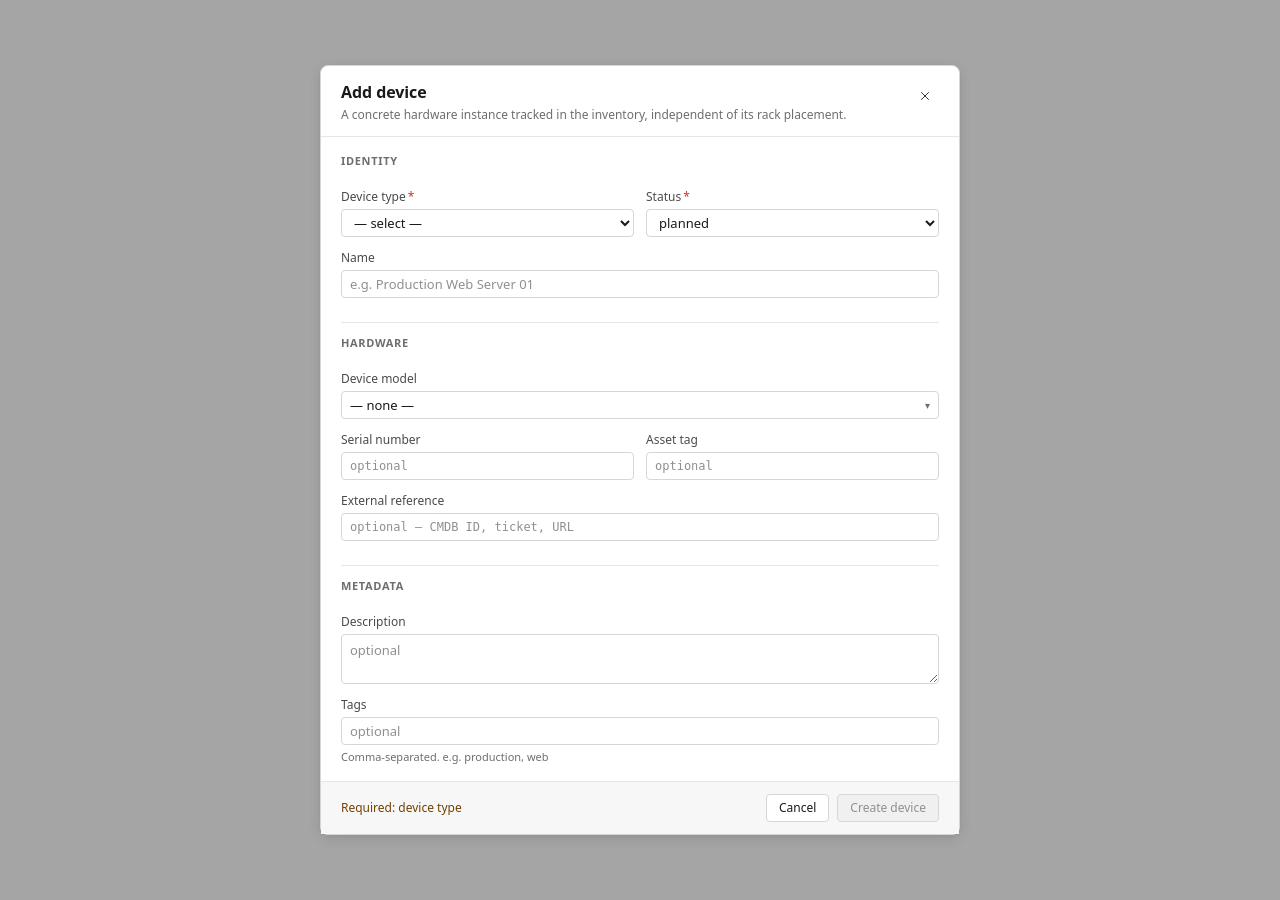
Test case: DeviceFormModal — add mode › clears device model when device type changes to incompatible type
Note: Select server type, then pick server model via searchable-select
Select "server" in the dropdown with test id "field-device-type": (488, 223) [341,209,634,237]
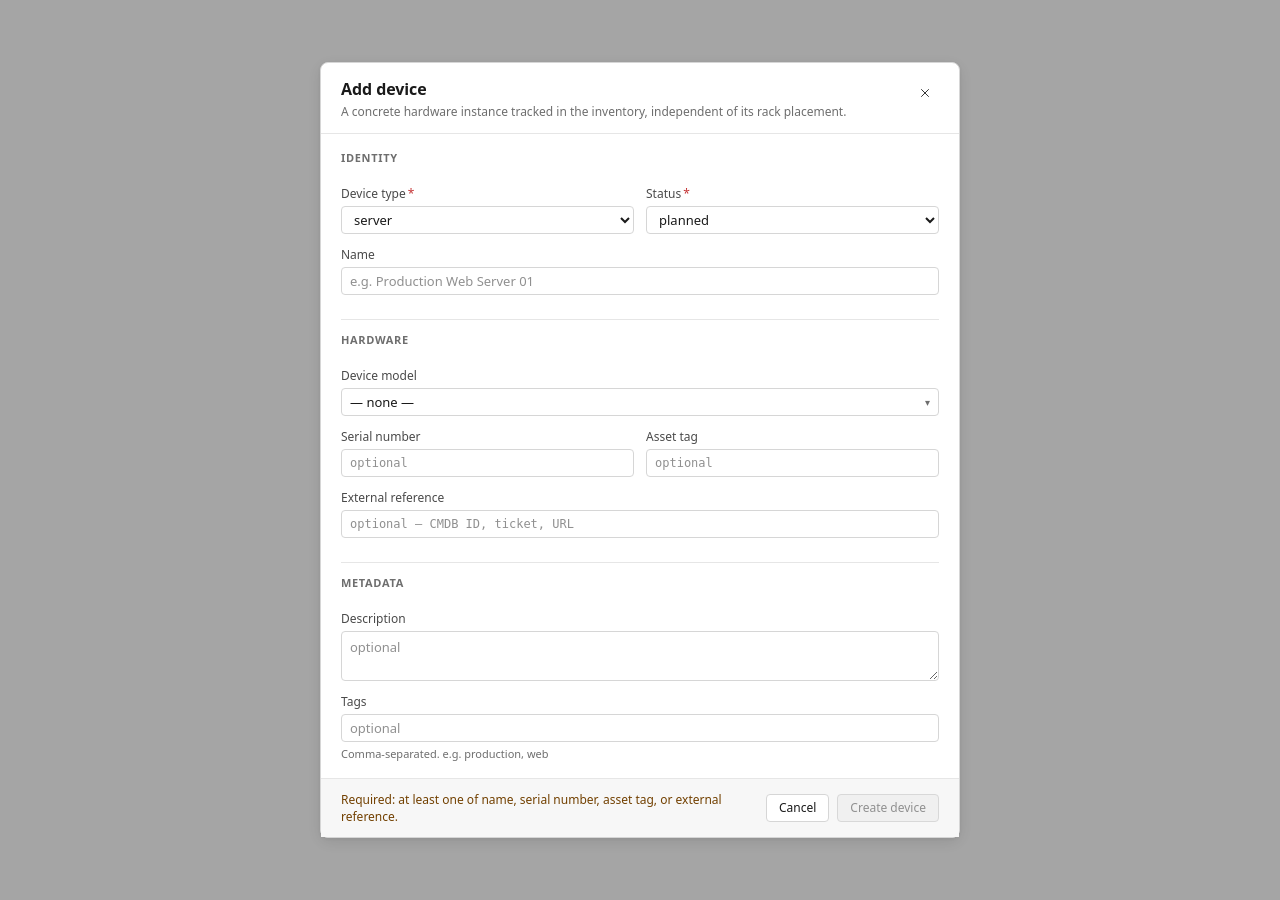
Click the button with test id "field-device-model-trigger": (382, 402) [341,388,939,416]
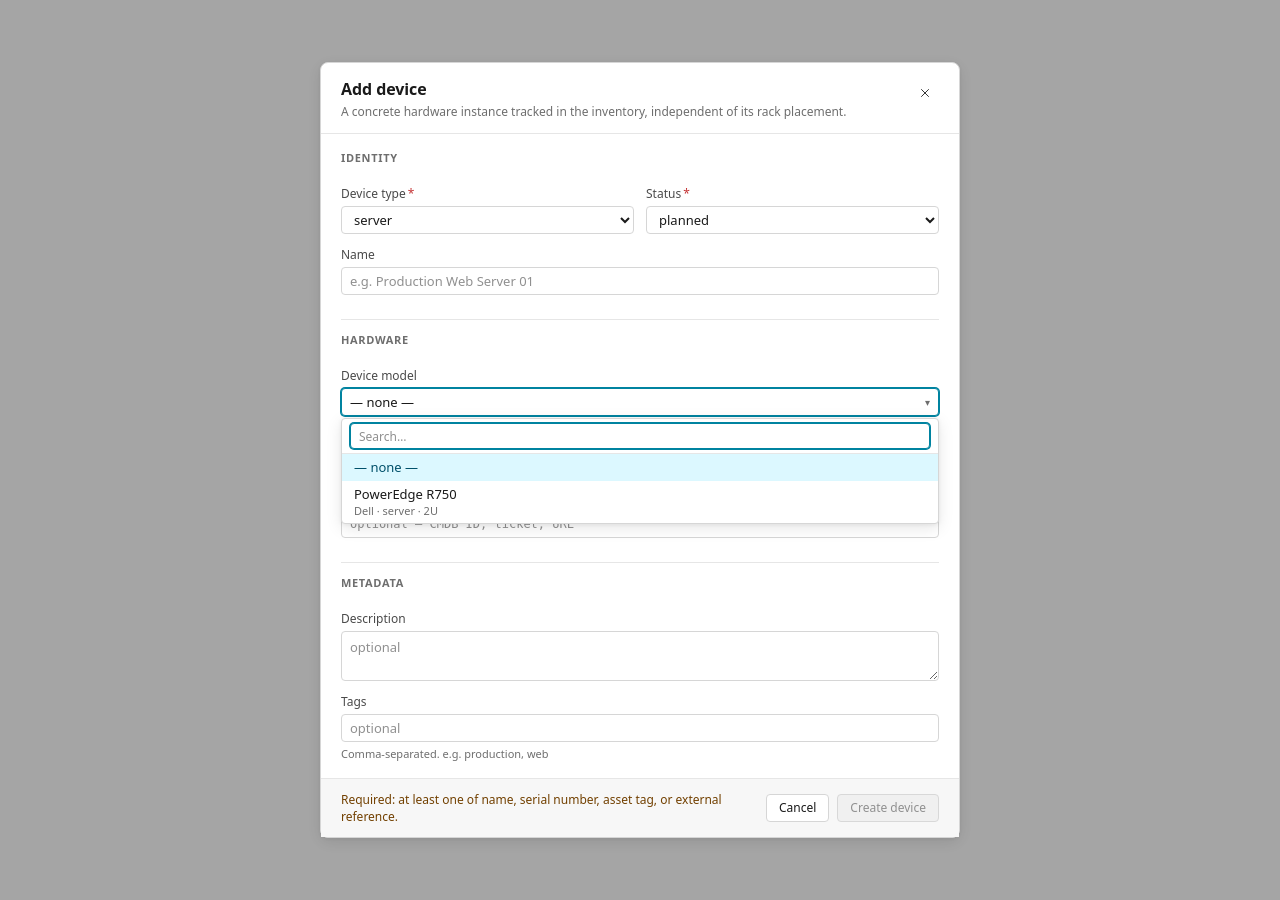
Now the text "PowerEdge R750" is shown, box [354,485,457,503]
Press the mouse on the option "PowerEdge R750 Dell · server · 2U": (405, 502) [354,485,457,518]
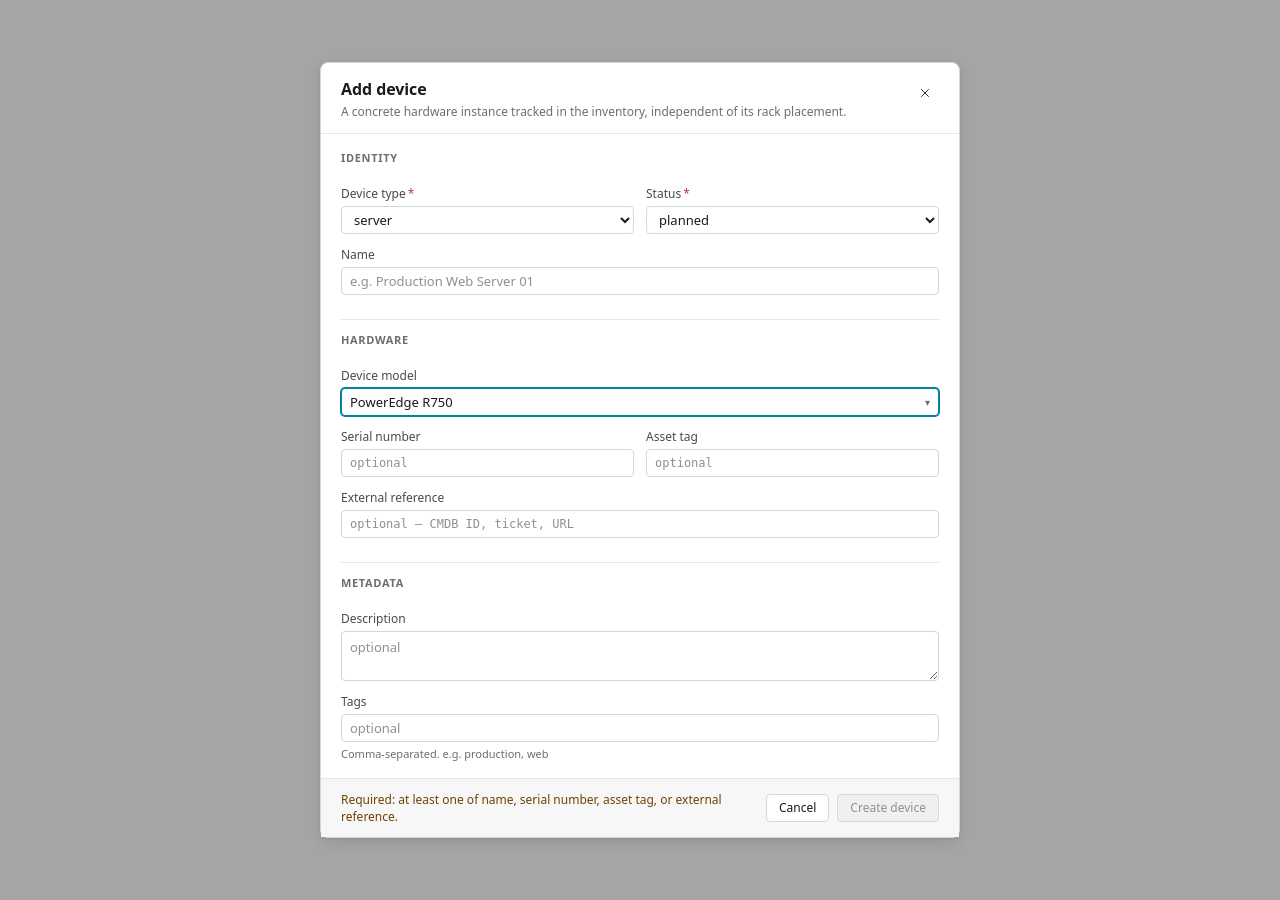
Now the button with test id "field-device-model-trigger" shows "PowerEdge R750", box [341,388,939,416]
Note: Switch to network type — server model should be cleared
Select "network" in the dropdown with test id "field-device-type": (488, 220) [341,206,634,234]
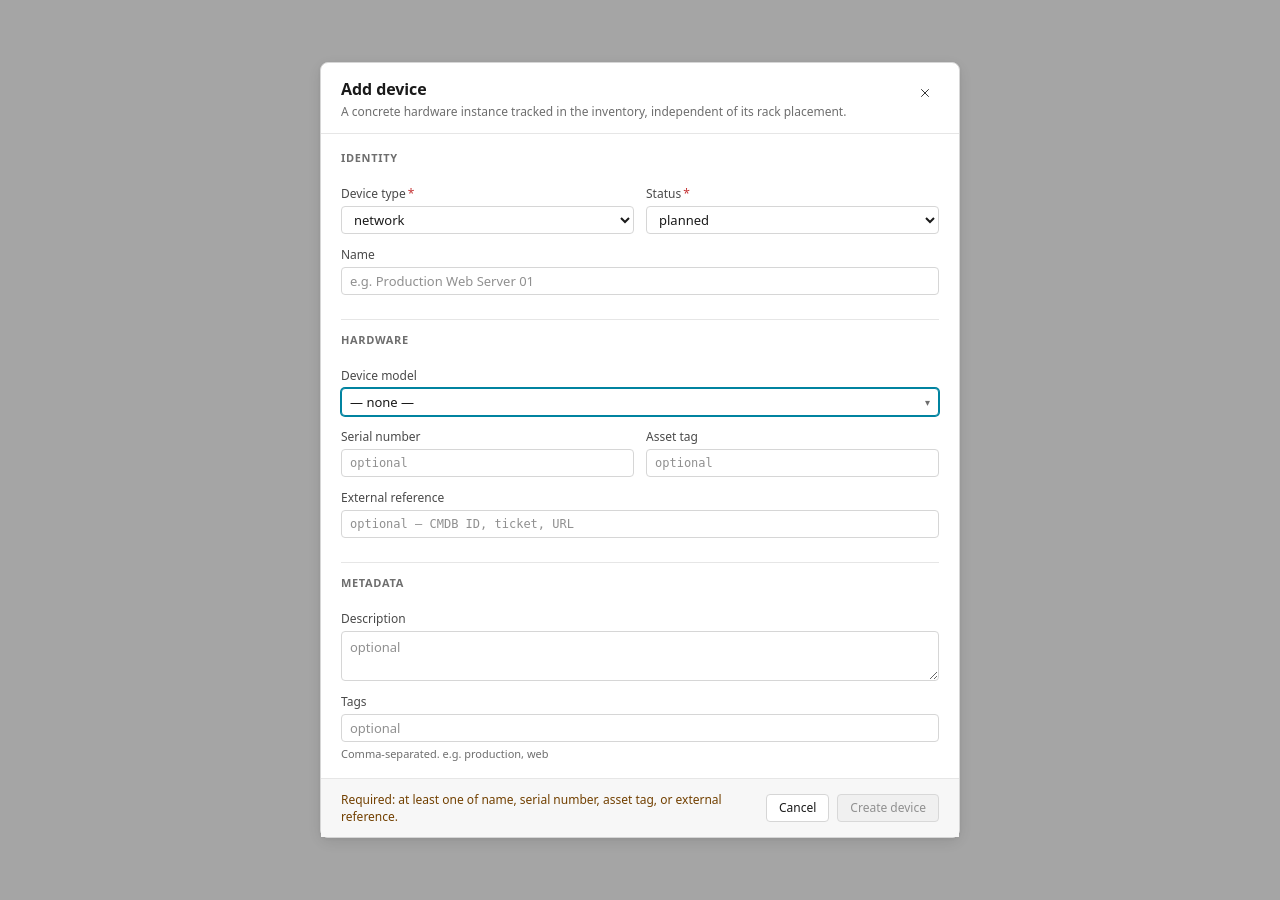
Now the button with test id "field-device-model-trigger" no longer shows "PowerEdge R750"
